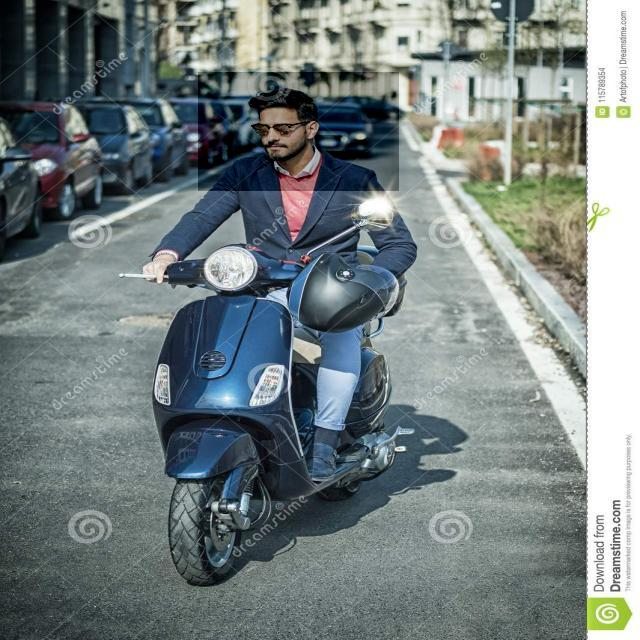No_Helmet: (198, 72, 399, 191)
